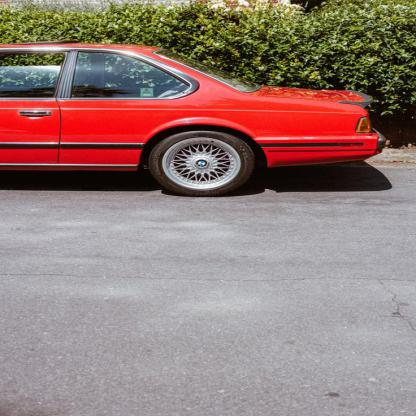Tire: (148, 127, 259, 198)
